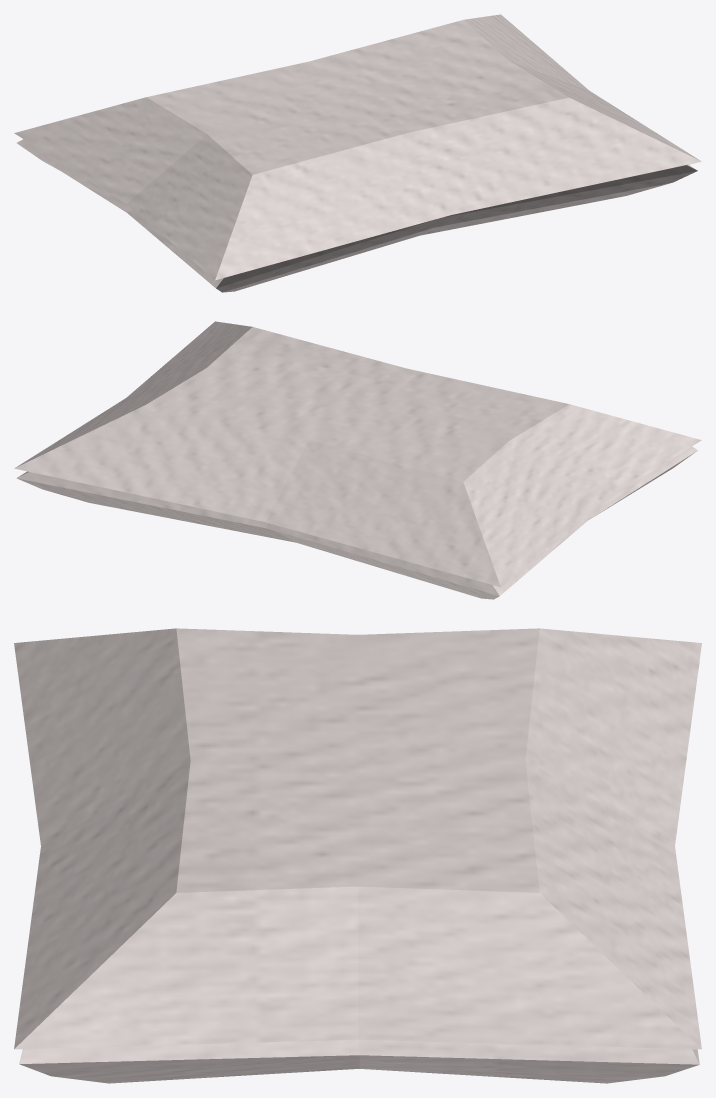
File: In KasurBantal.fbx
3 renders of one model, top to bottom at view 1: azimuth 30°, elevation 25°; view 2: azimuth 150°, elevation 25°; view 3: azimuth 270°, elevation 25°, orthographic. The views are drawn at different scales.
Parts seen in each view (by area): view 1: In KasurBantal; view 2: In KasurBantal; view 3: In KasurBantal.
Boxes of the visible parts, box(x1,y1,x2,y2) form: In KasurBantal: box(14, 14, 701, 292); In KasurBantal: box(14, 321, 701, 599); In KasurBantal: box(14, 628, 701, 1083).
Bounding box in the file's own units: 1.87 × 0.3891 × 1.34.
